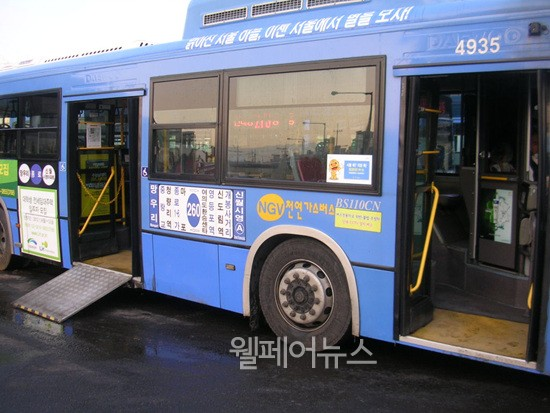entrance: (398, 67, 548, 374)
